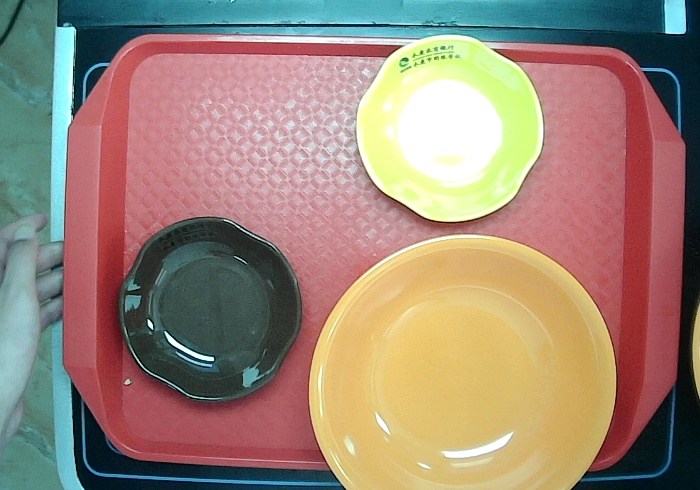YKMZ-Huang_Se_Ao_Bian_Wan: (354, 31, 547, 225)
YKMZ-Ju_Se_Tang_Wan: (304, 231, 619, 490)
YKMZ-Ka_Fei_Ao_Bian_Wan: (112, 214, 303, 404)
